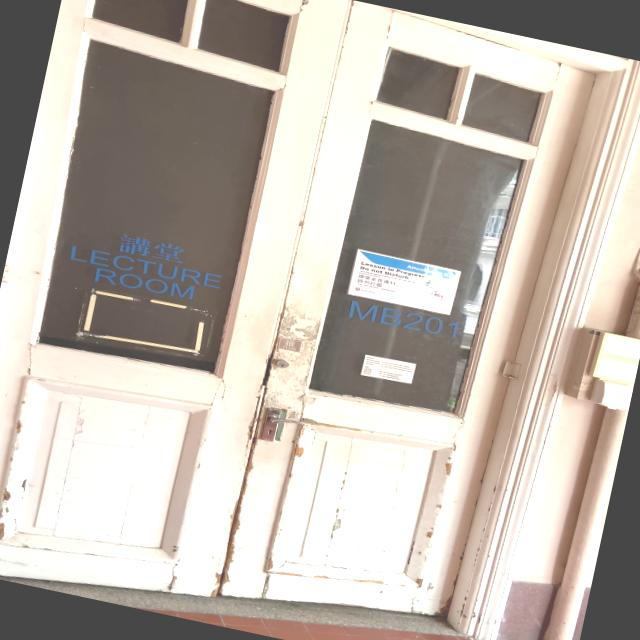room201Window: (339, 294, 479, 349)
